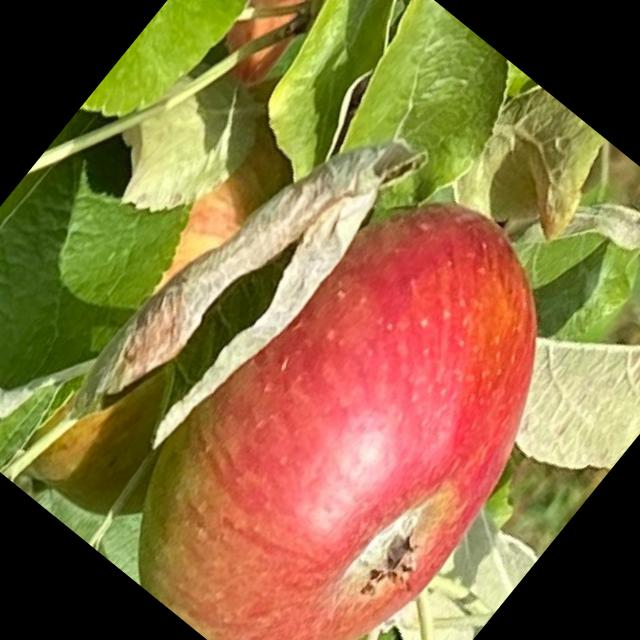Apples: (82, 149, 628, 639), (0, 103, 355, 518), (164, 0, 371, 92)
